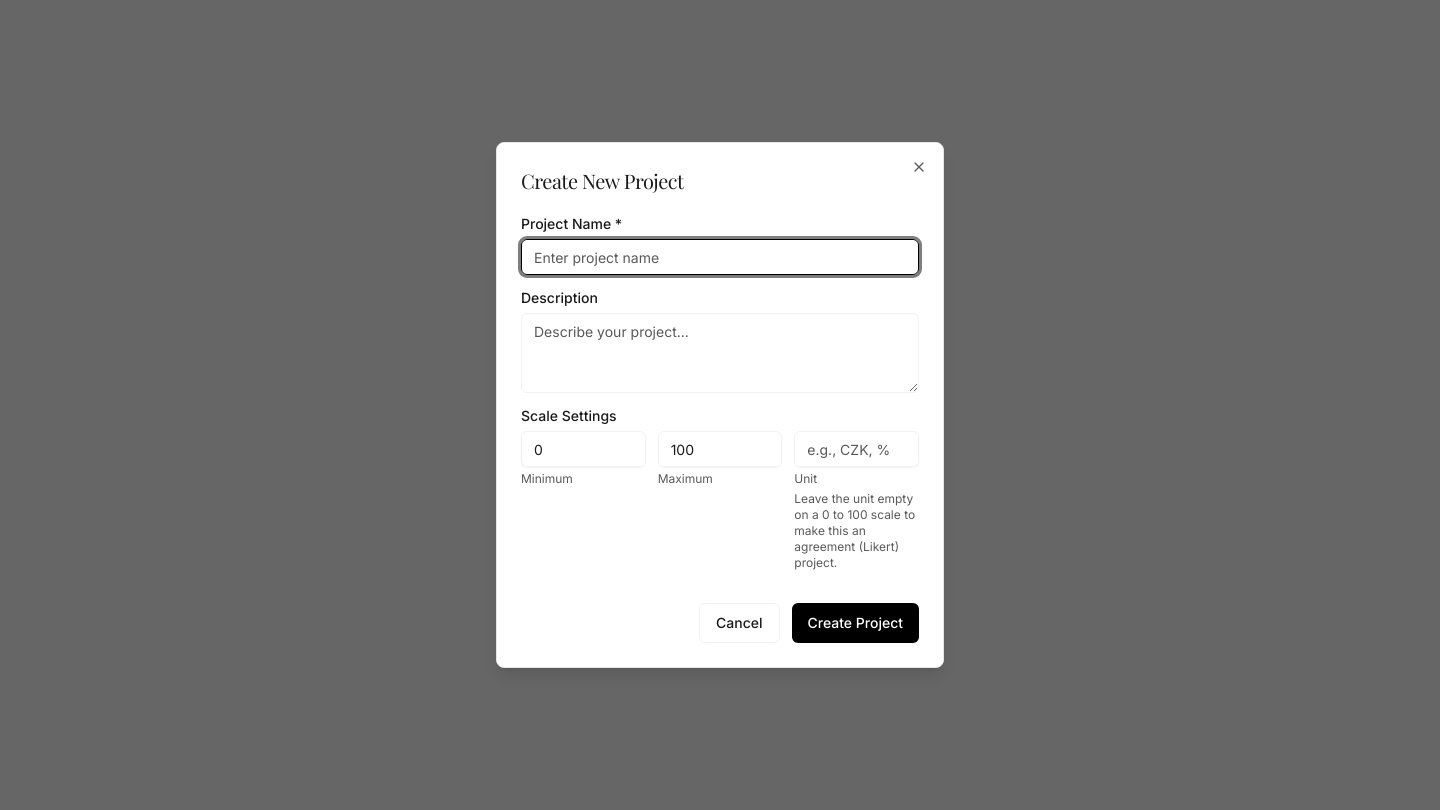
Scenario: CreateProjectModal › shows loading state during submission
Type "New Project" into the field with placeholder "Enter project name".
click(720, 257); type("New Project")  # box [521, 239, 919, 275]
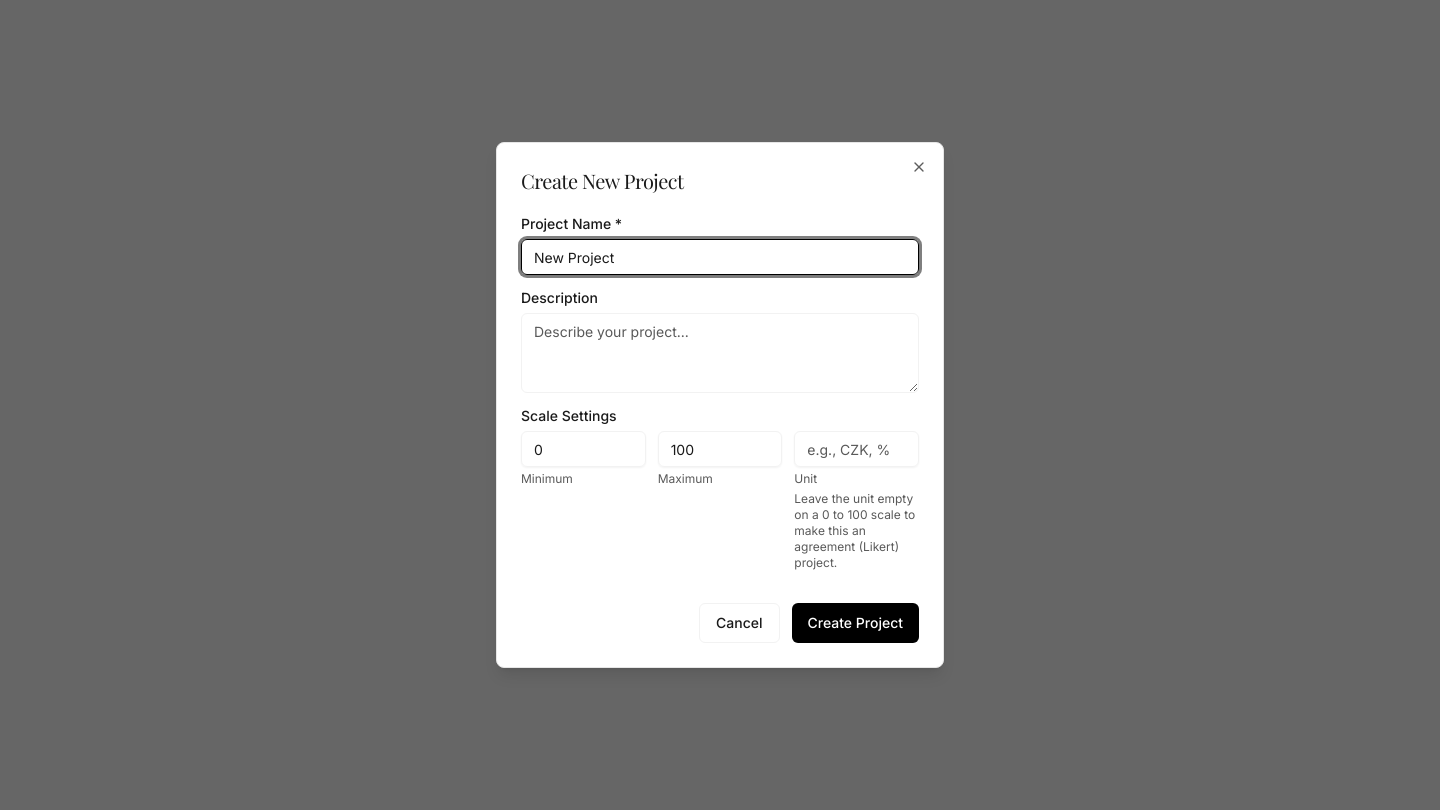
Type "%" into the field with placeholder "e.g., CZK, %".
click(857, 449); type("%")  # box [794, 431, 919, 467]
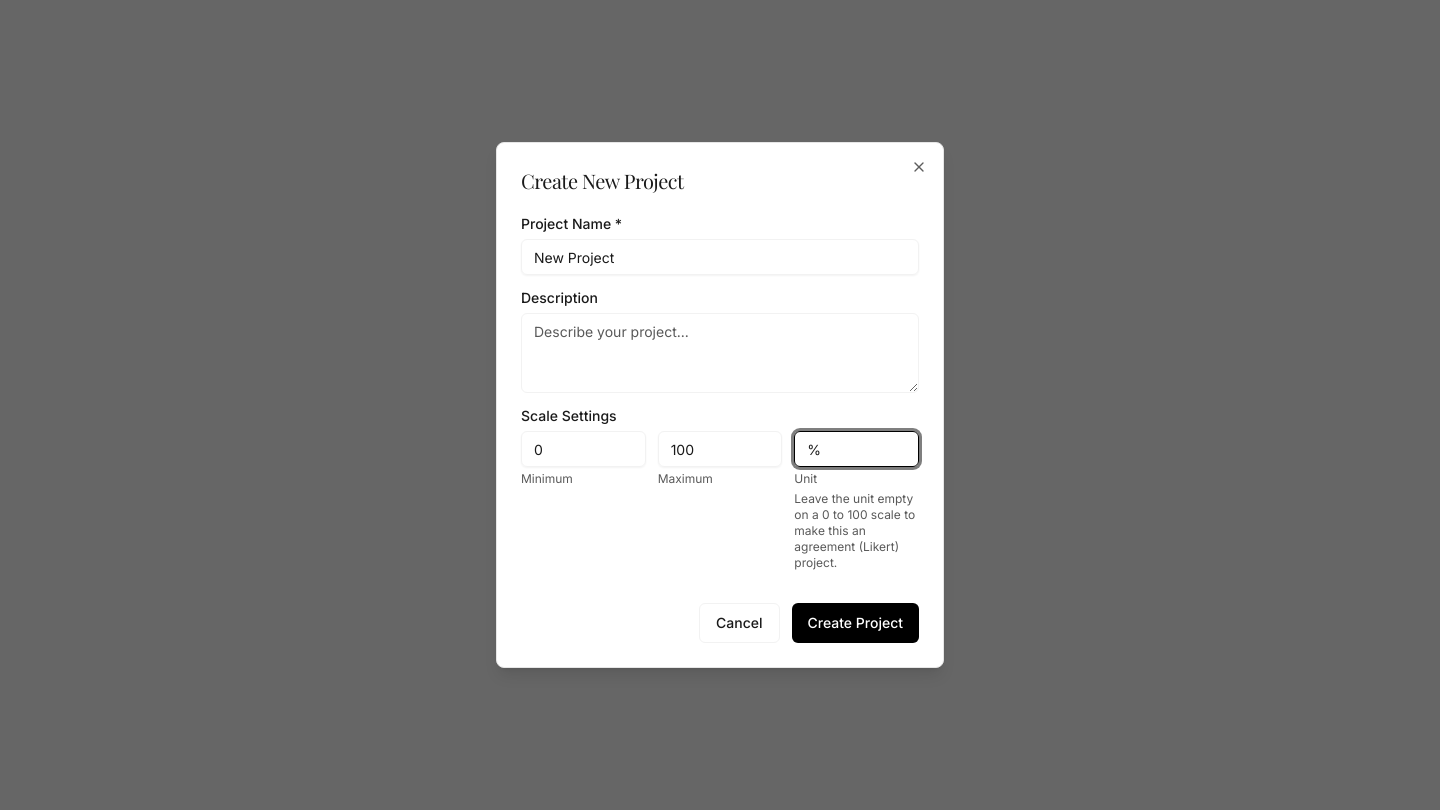
Click the button "Create Project".
click(855, 623)  # box [792, 603, 919, 643]
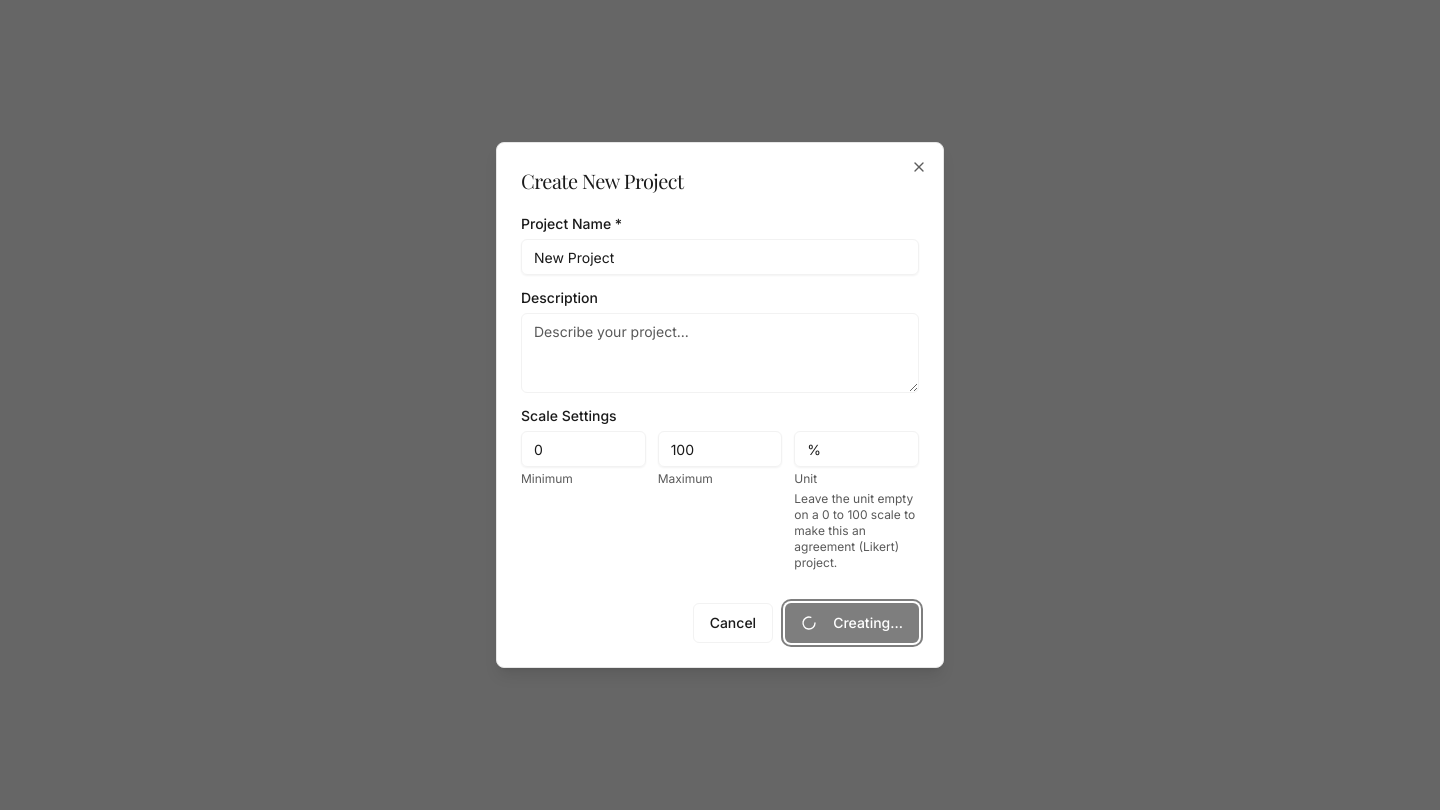
expect the button "Creating..." is shown: met, box [785, 603, 919, 643]
